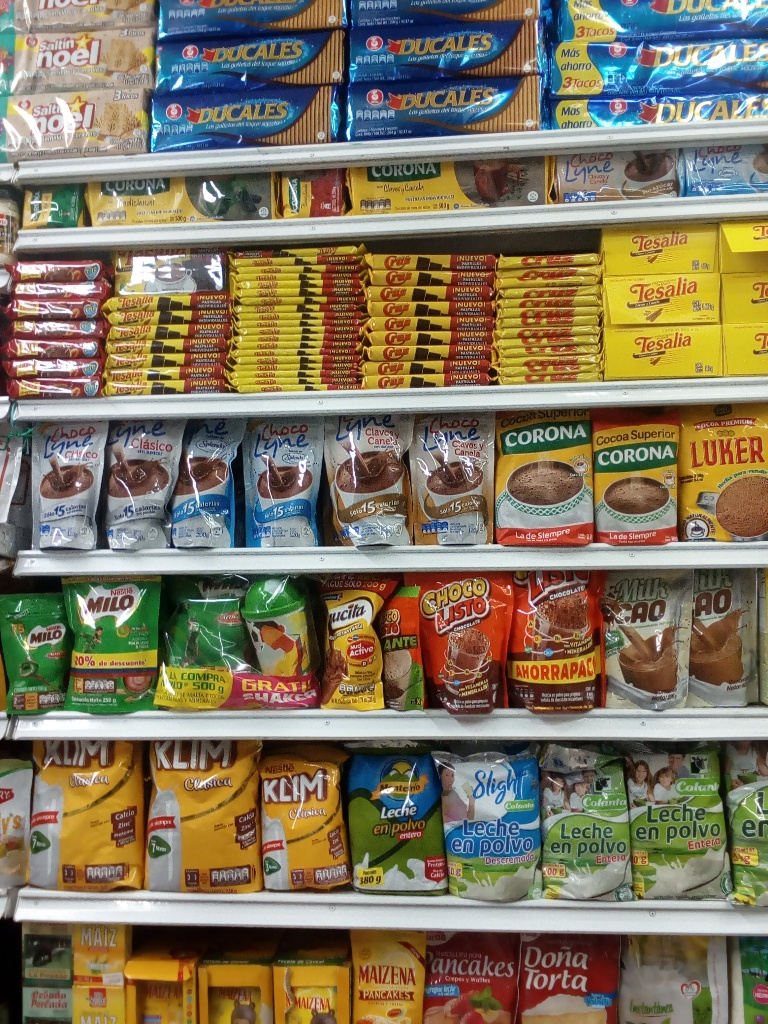COL0170102DYP10000: (379, 584, 428, 715)
COL0170103DYP20000: (405, 570, 517, 712)
COL0170103DYP44000: (510, 569, 612, 711)
COL0170203DYP10000: (0, 593, 67, 709)
COL0170203DYP25000: (59, 574, 166, 712)
